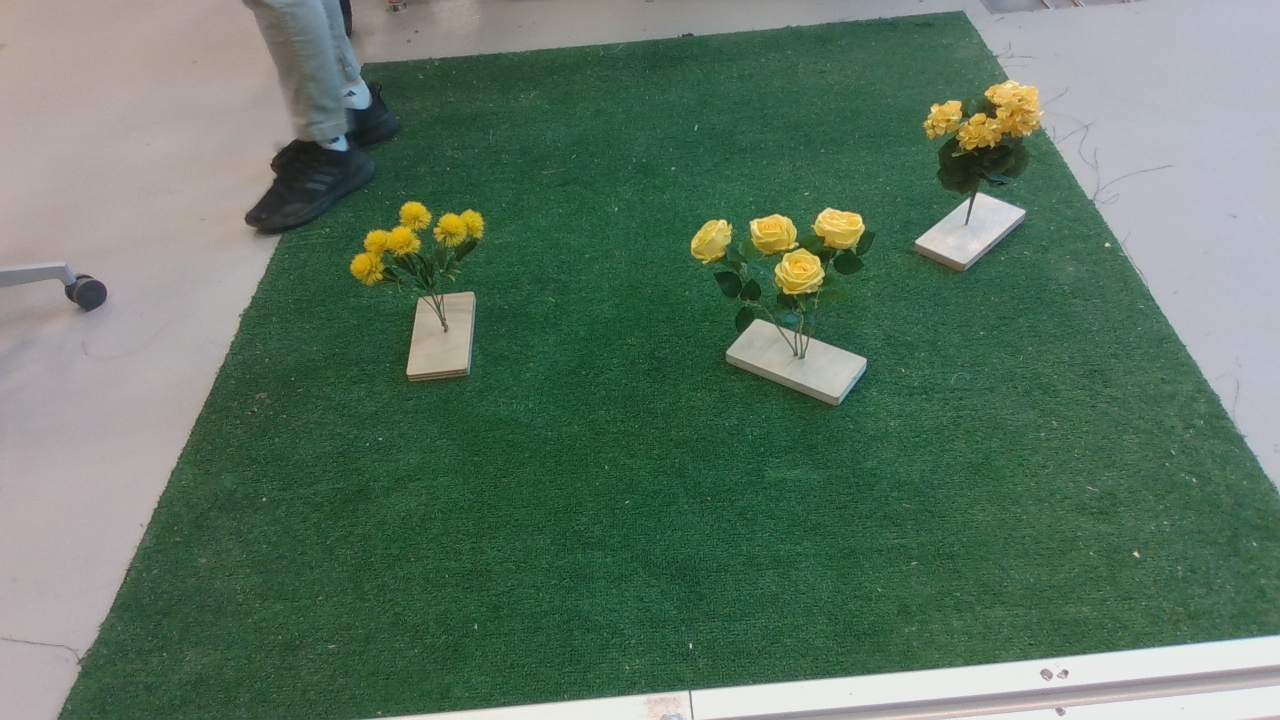dandelion: (350, 200, 501, 315)
geranium: (925, 80, 1057, 201)
rose: (685, 208, 889, 336)
